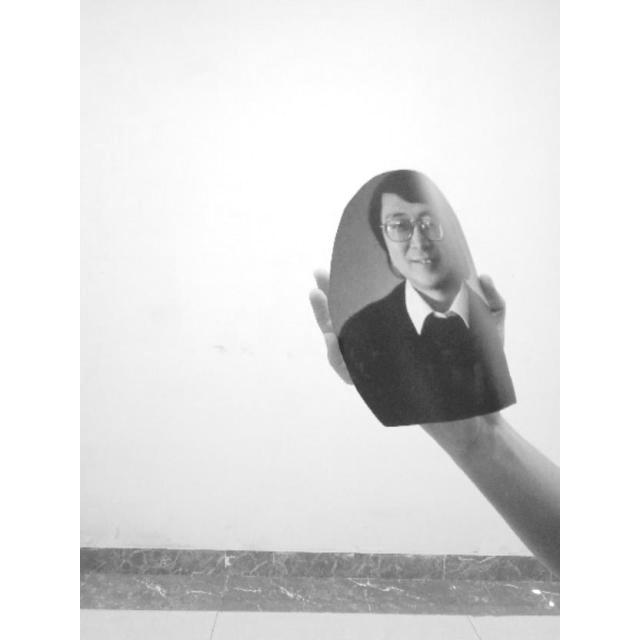fake: (306, 157, 528, 450)
